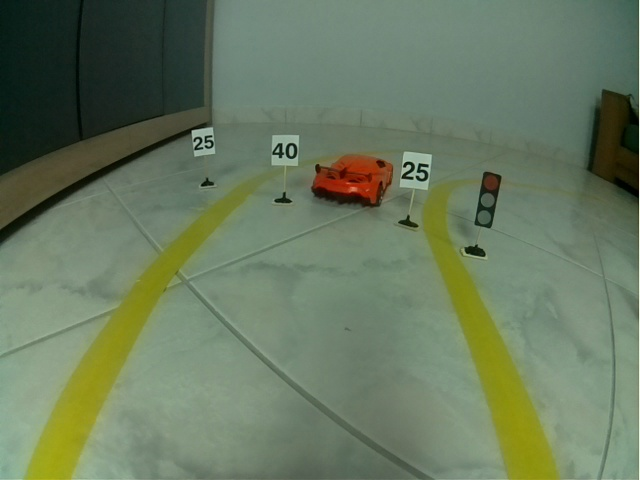Lambo: (311, 153, 394, 208)
Red Traffic Light: (474, 171, 502, 229)
Speed Limit 25: (400, 151, 433, 191), (191, 127, 216, 158)
Speed Limit 40: (271, 134, 300, 167)
